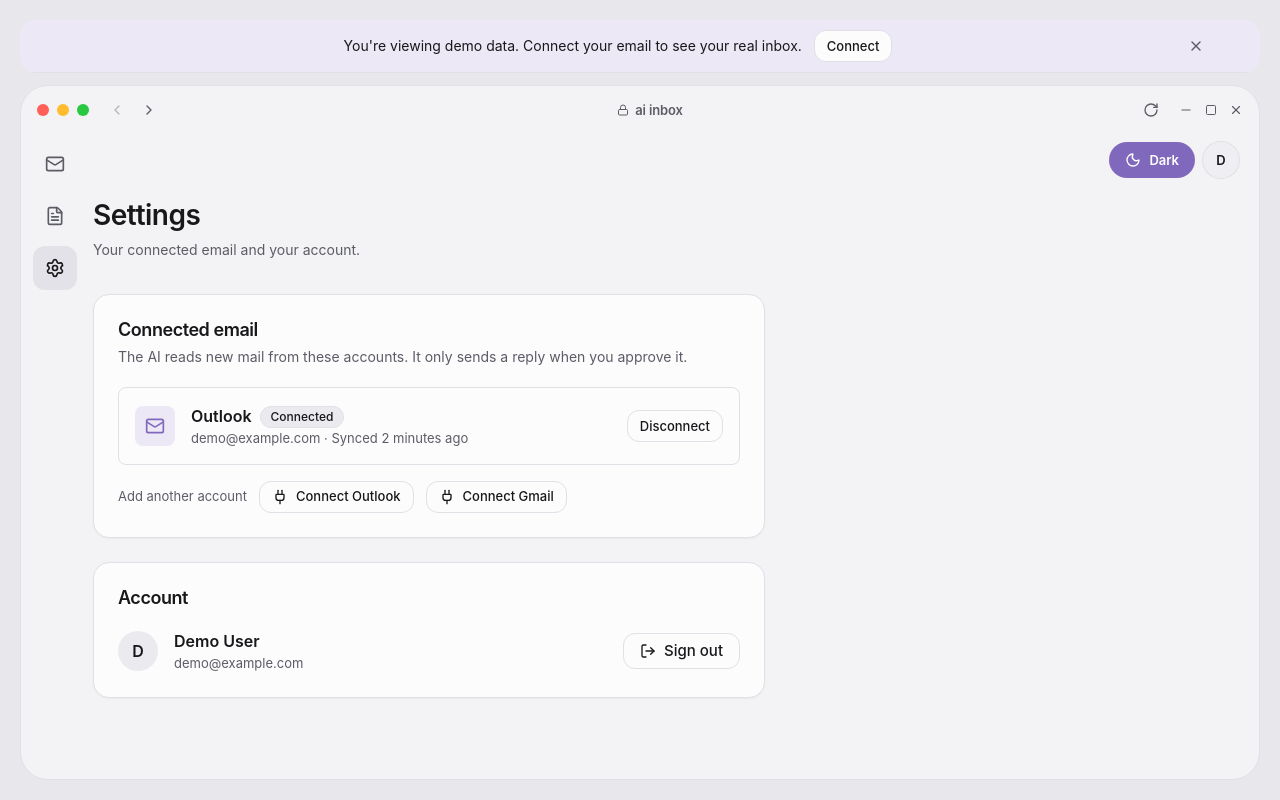
Test case: app › disconnects Outlook only after confirming, and connects it again
This screenshot has width=1280, height=800.
Click the button "Disconnect": (675, 426) [627,410,723,442]
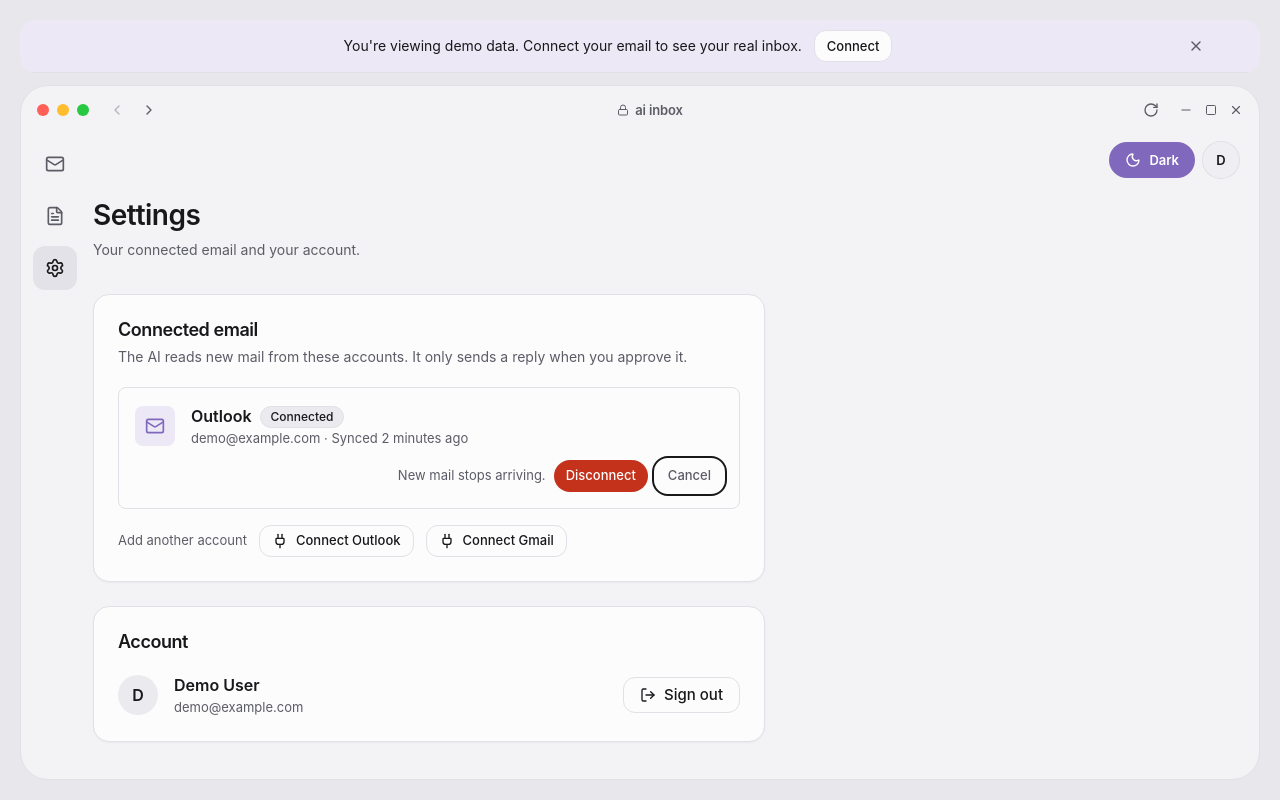
Click the button "Disconnect": (601, 476) [554,460,648,492]
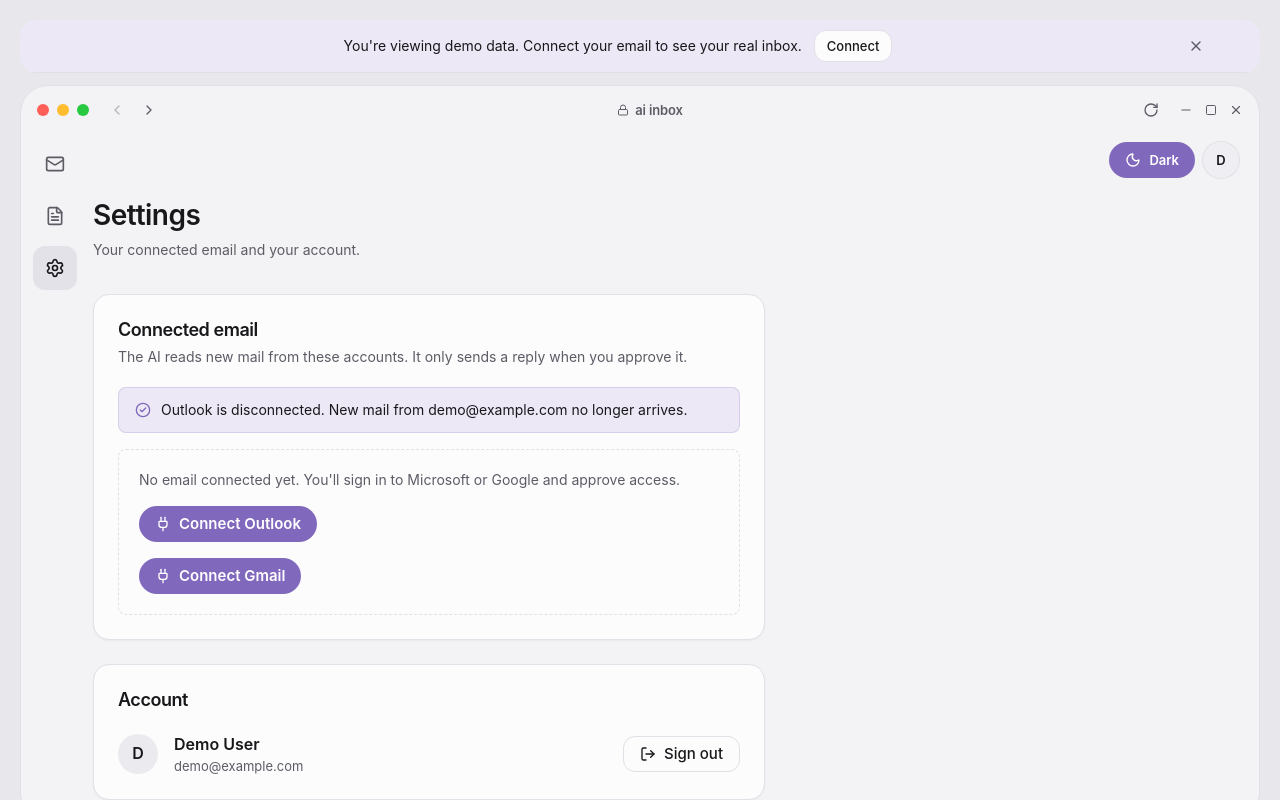
Check: the text "No email connected yet" is shown, box [139,471,680,488]
Click the button "Connect Outlook": (228, 524) [139,506,317,542]
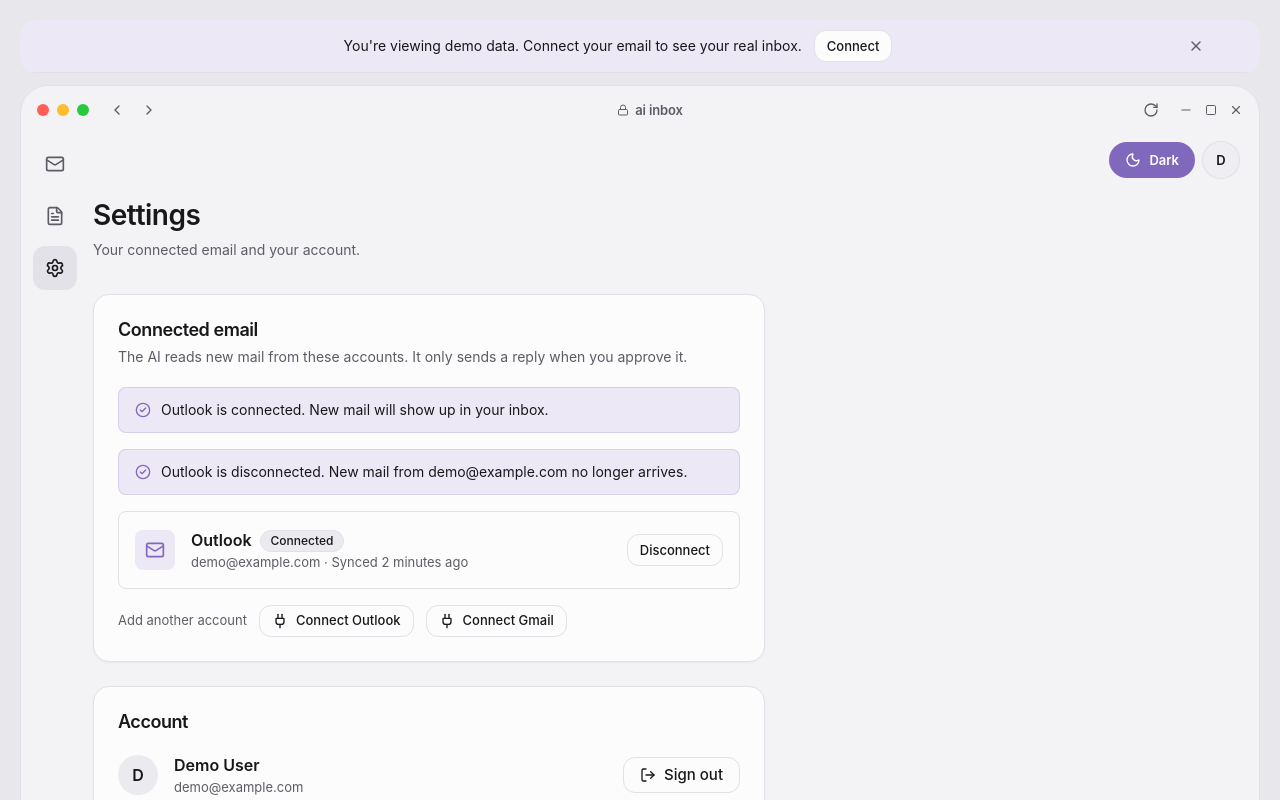
Check: the text "Outlook is connected. New mail will show up in your inbox." is shown, box [161,401,549,418]
Check: the text "Connected" is shown, box [260,530,344,552]
